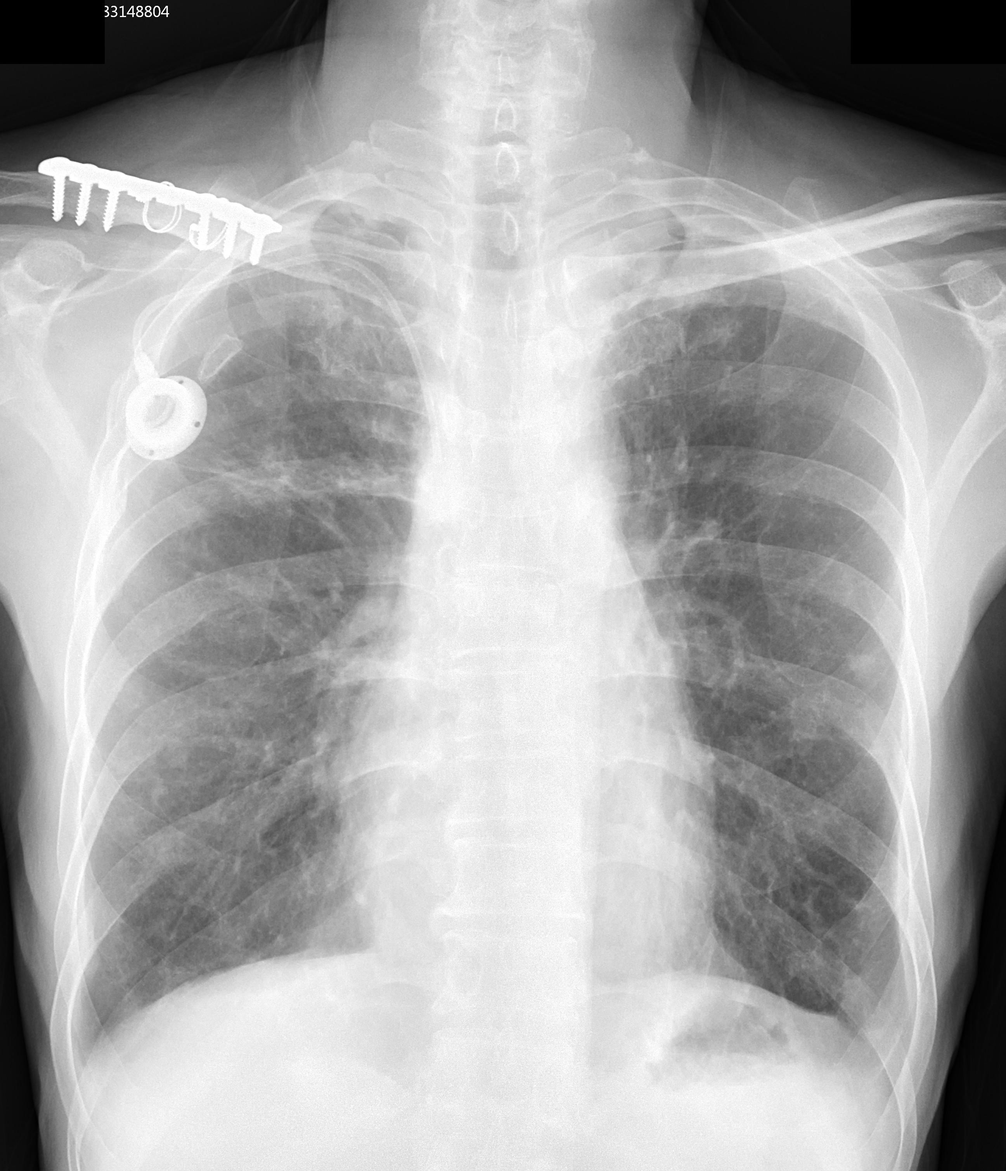Pleural thickening: (834, 982, 922, 1112), (58, 986, 122, 1091)
Pulmonary fibrosis: (180, 450, 330, 521), (842, 650, 879, 686)
